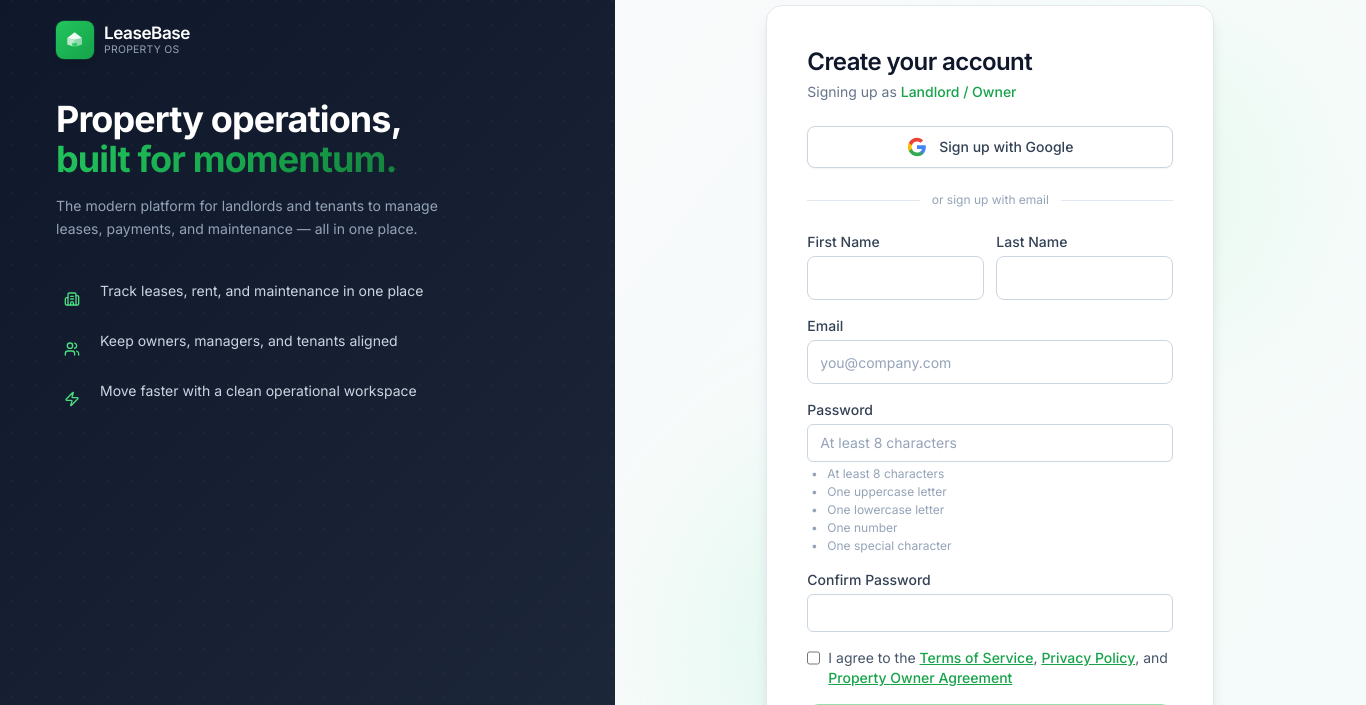
Register page — password validation UX › maps backend password-complexity error to inline field message
Type "Smoke" into the field labelled "First Name" at (896, 278), box [807,256,984,300]
Type "Test" into the field labelled "Last Name" at (1085, 278), box [996,256,1173,300]
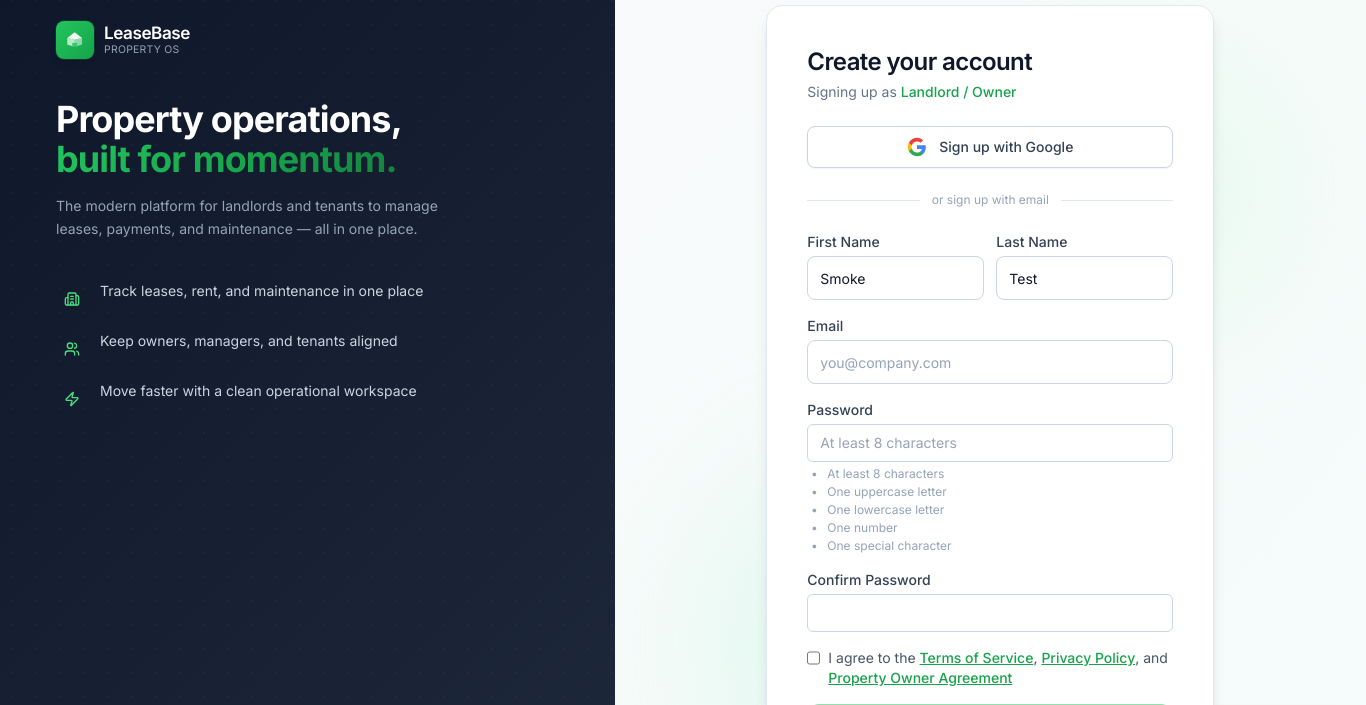
Type "a@b.co" into the field labelled "Email" at (990, 362), box [807,340,1173,384]
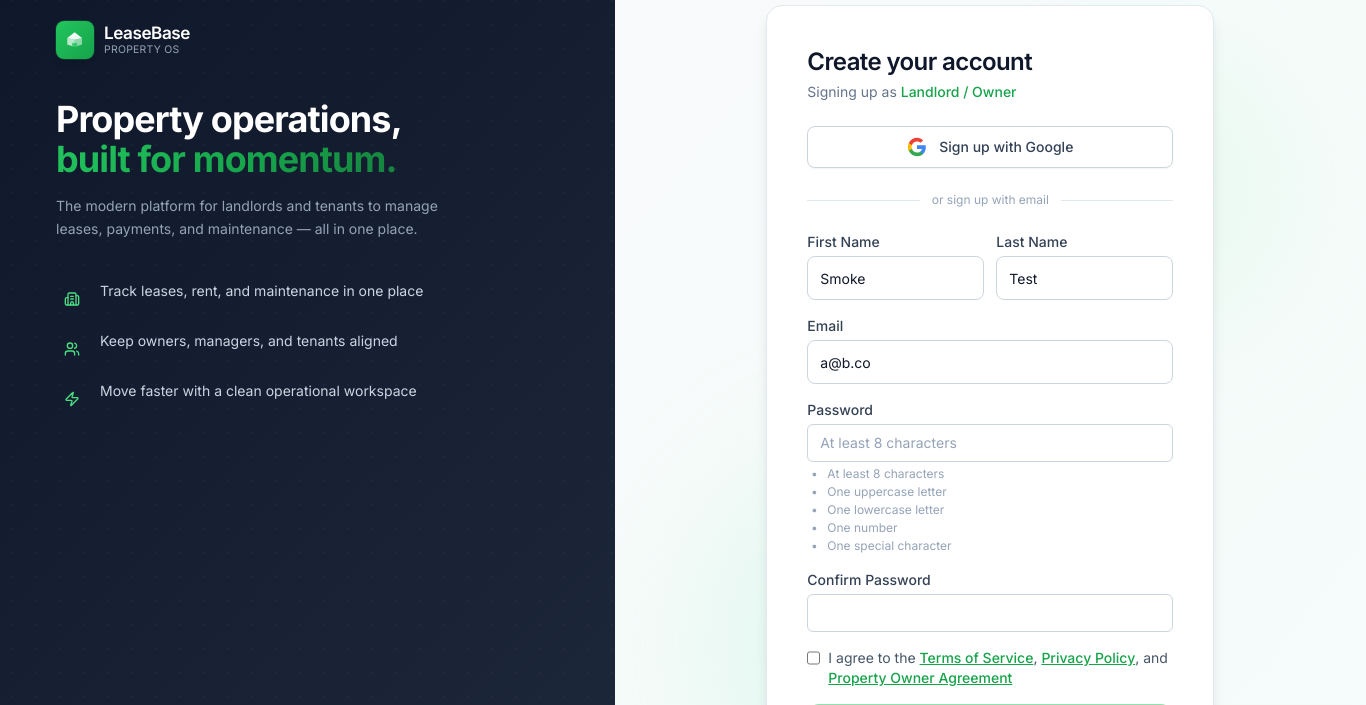
Click the checkbox at (814, 658), box [807,650,820,666]
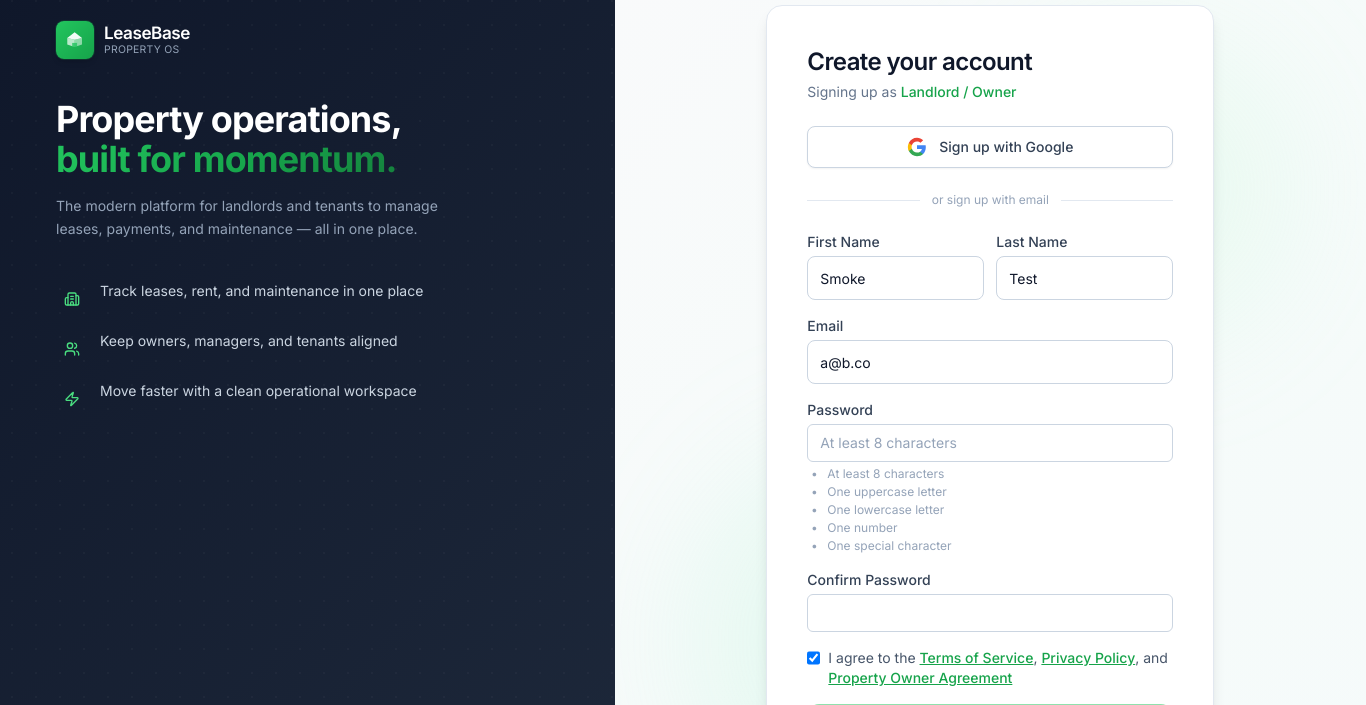
Type "GoodP@ss1" into the password field labelled "Password" at (990, 443), box [807,424,1173,462]
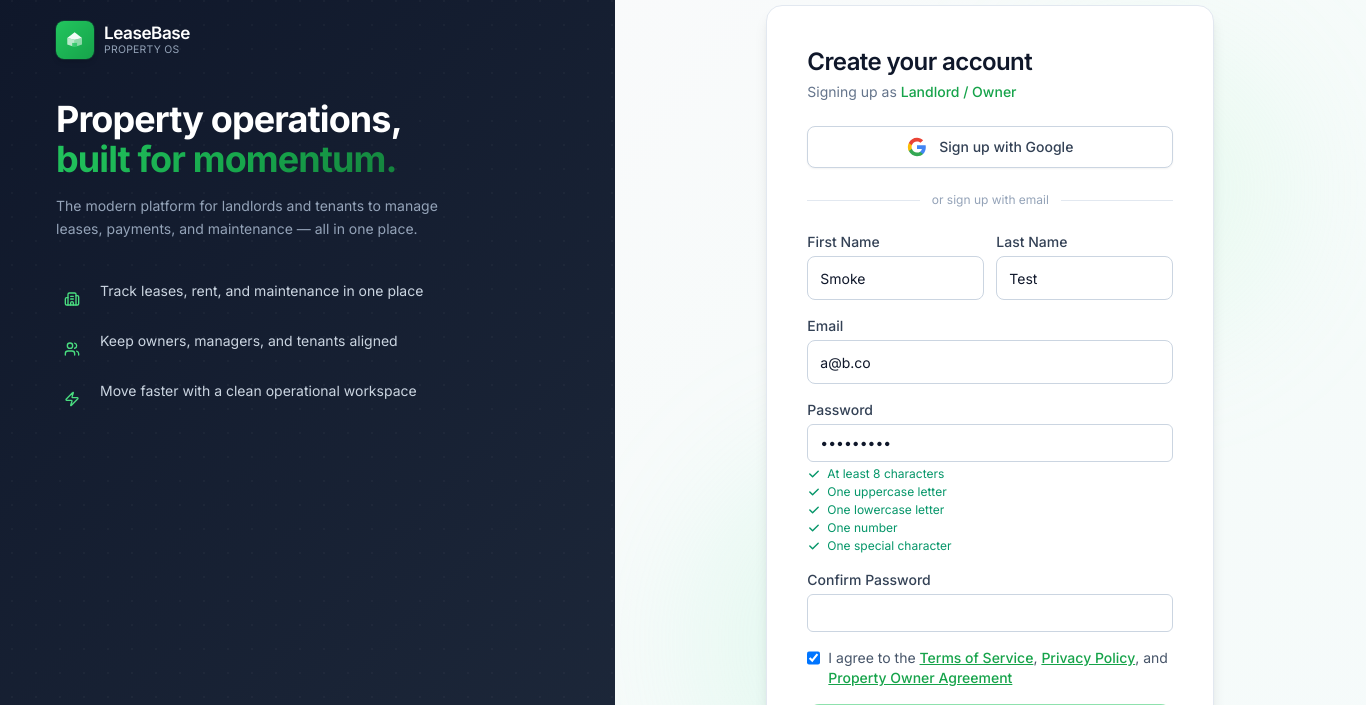
Type "GoodP@ss1" into the password field labelled "Confirm Password" at (990, 613), box [807,594,1173,632]
(page scrolled)
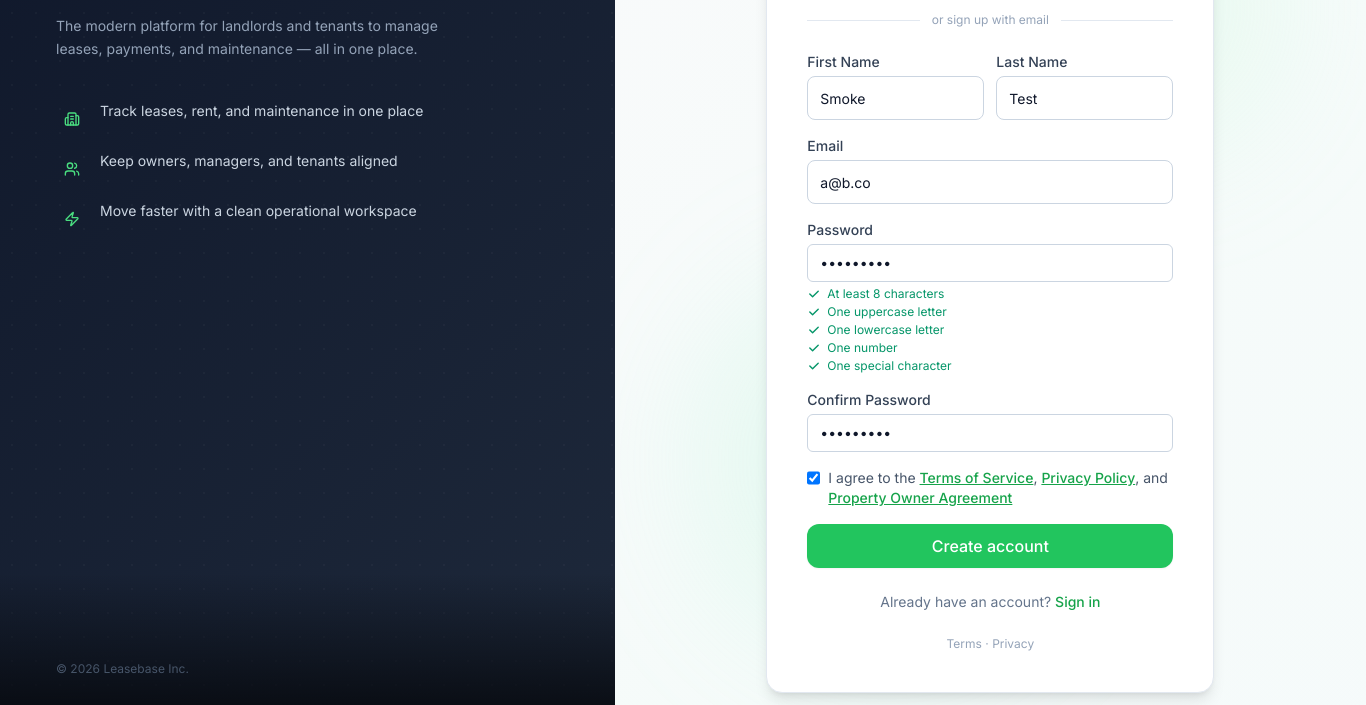
Click the button "Create account" at (990, 546), box [807,524,1173,568]
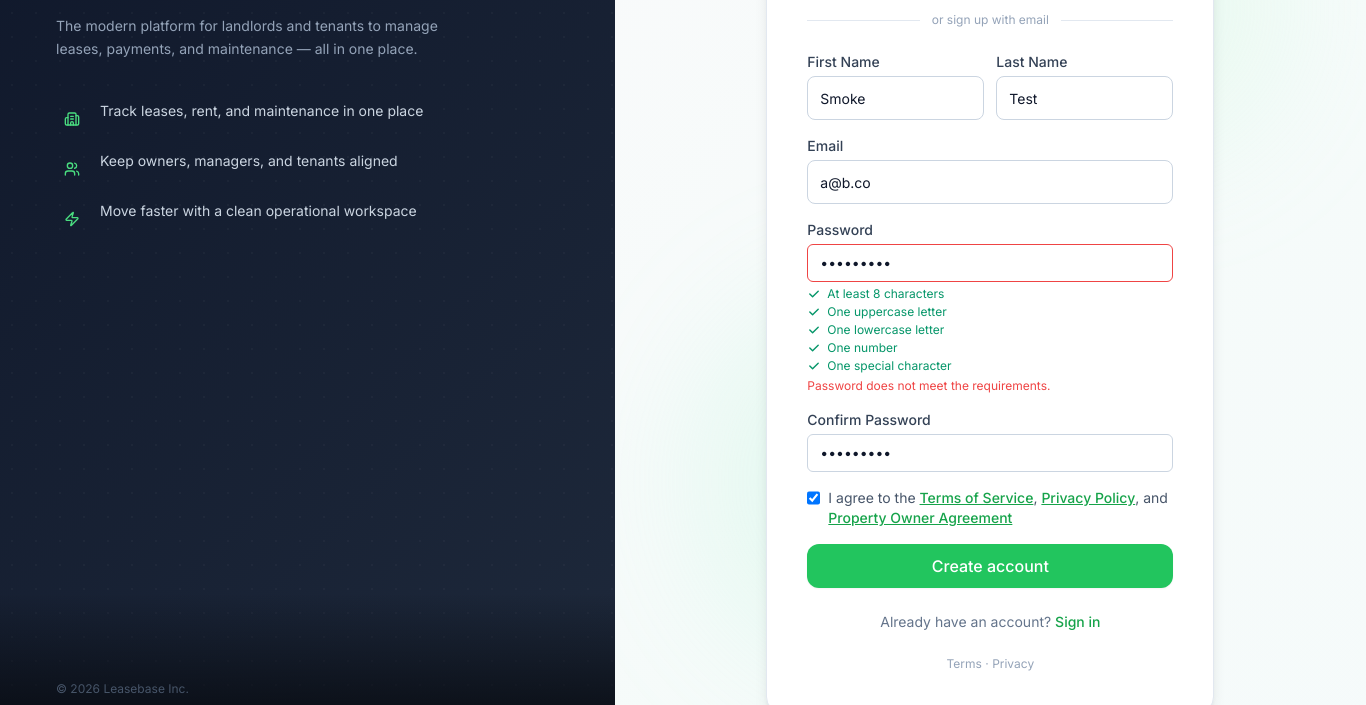
Check: the text "Password does not meet the requirements." is shown, box [807,378,1050,393]
